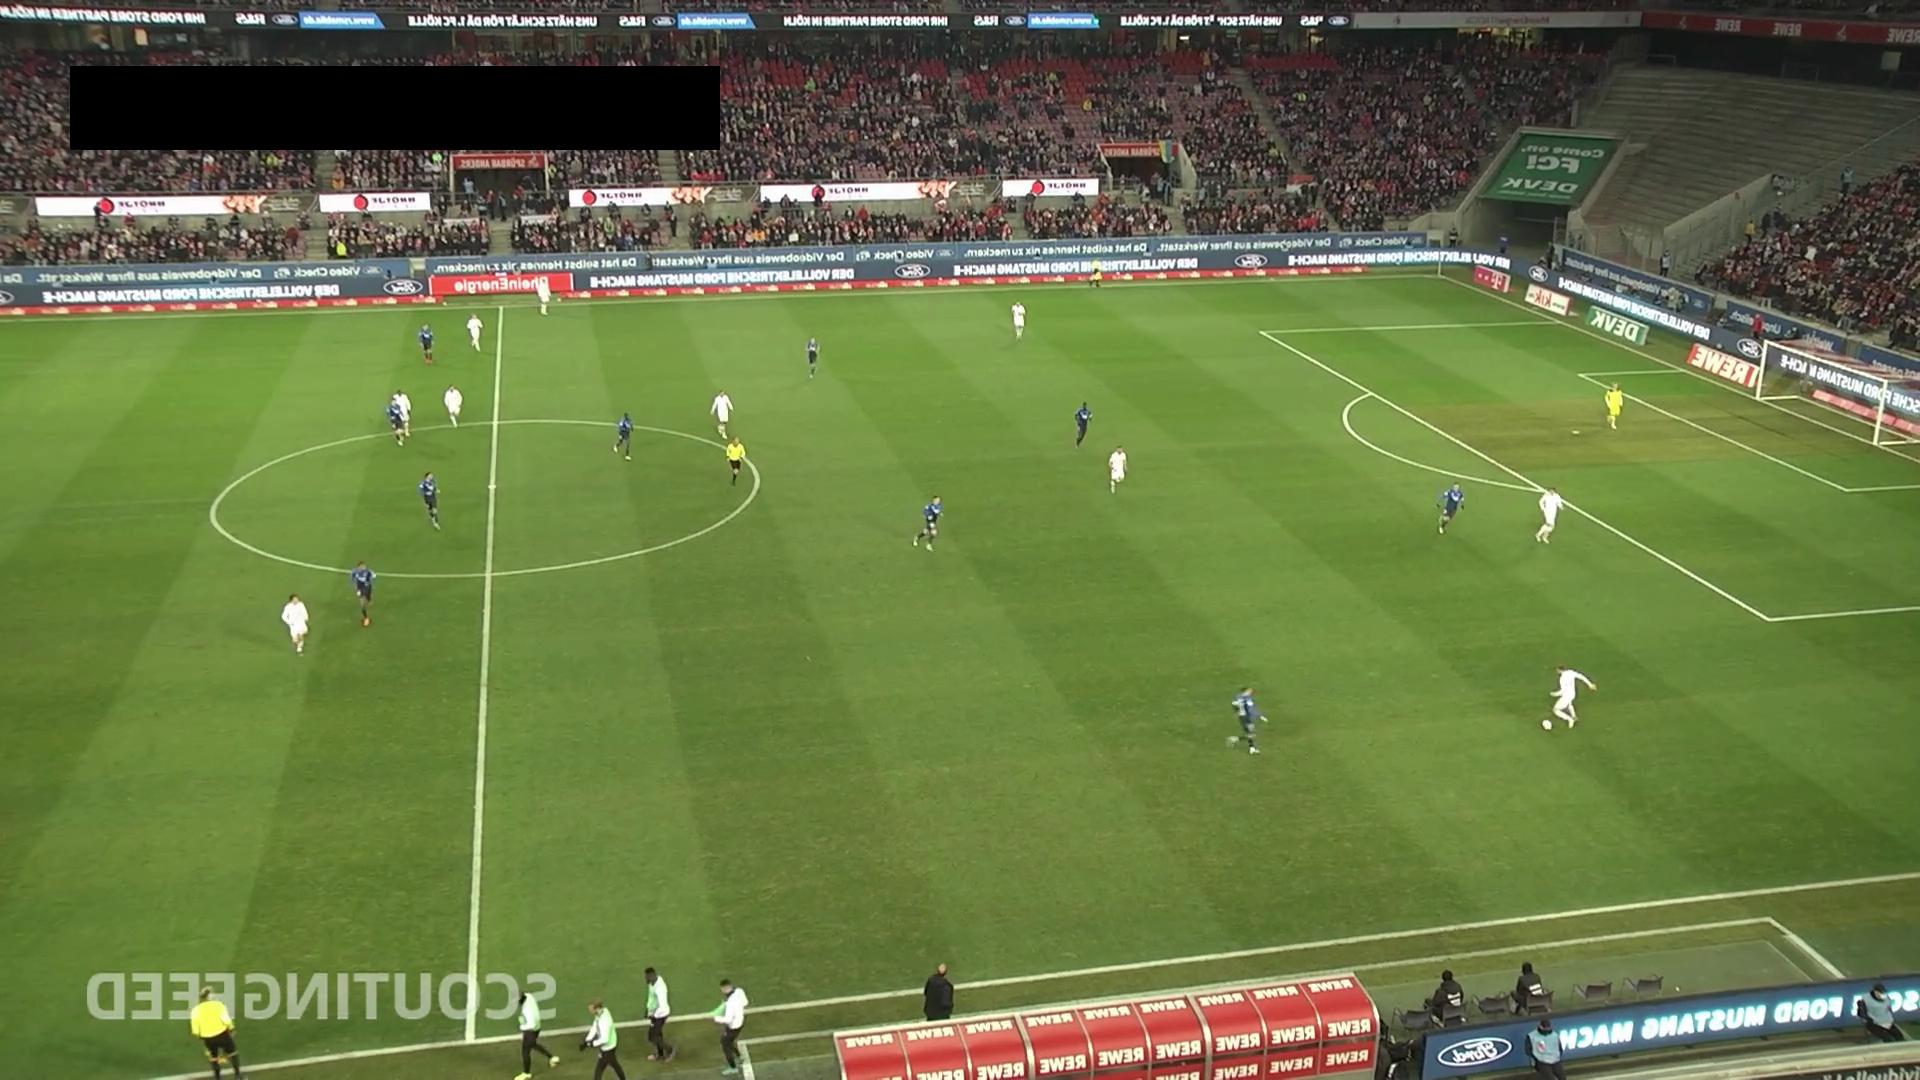ball: (1540, 718, 1554, 732)
goalkeeper: (1604, 382, 1624, 431)
player: (1548, 664, 1598, 730), (1224, 685, 1269, 758), (281, 593, 310, 655), (350, 558, 376, 627), (912, 495, 943, 551), (1535, 486, 1564, 544), (1435, 483, 1465, 535), (418, 470, 441, 531), (710, 388, 735, 441), (612, 411, 634, 460), (384, 398, 406, 447), (1108, 444, 1127, 494), (1074, 400, 1093, 448), (392, 389, 411, 436), (443, 384, 463, 428), (417, 323, 435, 364), (466, 312, 484, 353), (1011, 300, 1026, 342), (805, 336, 819, 379), (536, 277, 551, 315)
referee: (190, 986, 247, 1080), (725, 435, 746, 485), (1086, 255, 1102, 291)
